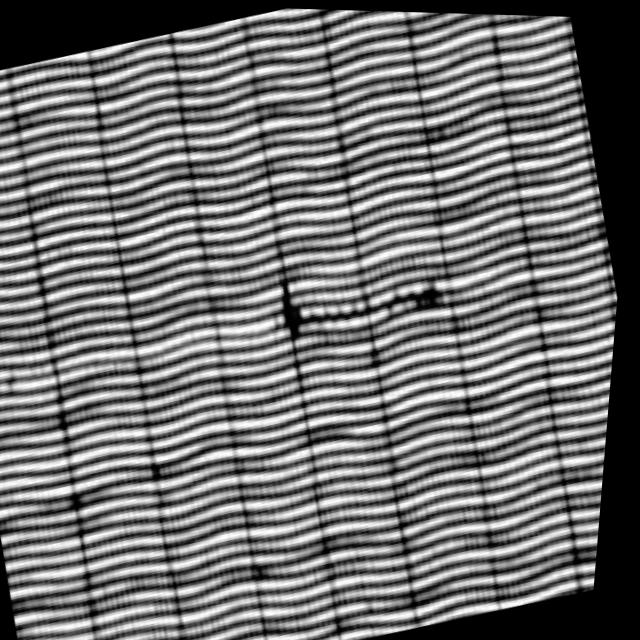Stitch: (265, 230, 471, 362)
